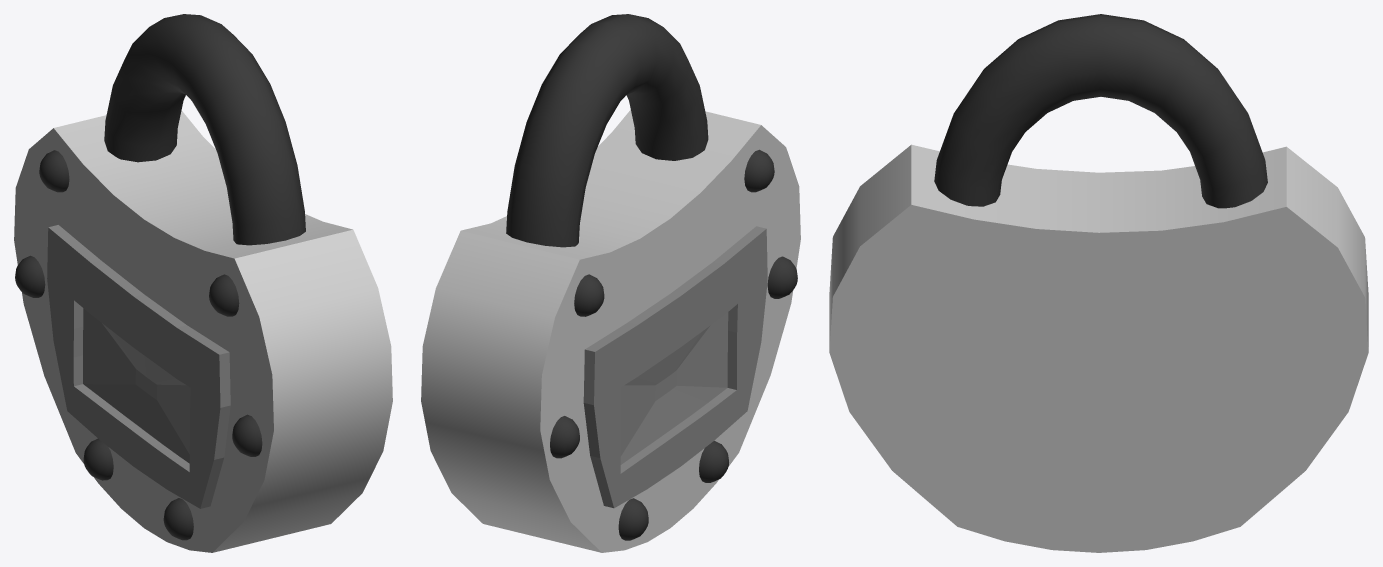
File: Lock.FBX
3 renders of one model, left to right at view 1: azimuth 30°, elevation 25°; view 2: azimuth 150°, elevation 25°; view 3: azimuth 270°, elevation 25°, orthographic. The views are drawn at different scales.
Parts seen in each view (by area): view 1: Box001; view 2: Box001; view 3: Box001.
Part boxes in pixels (x1=…): Box001: x1=14, y1=14, x2=392, y2=552; Box001: x1=421, y1=14, x2=800, y2=552; Box001: x1=829, y1=14, x2=1368, y2=552.
Size of the model in its own units: 0.2545 by 0.8777 by 0.8456.
